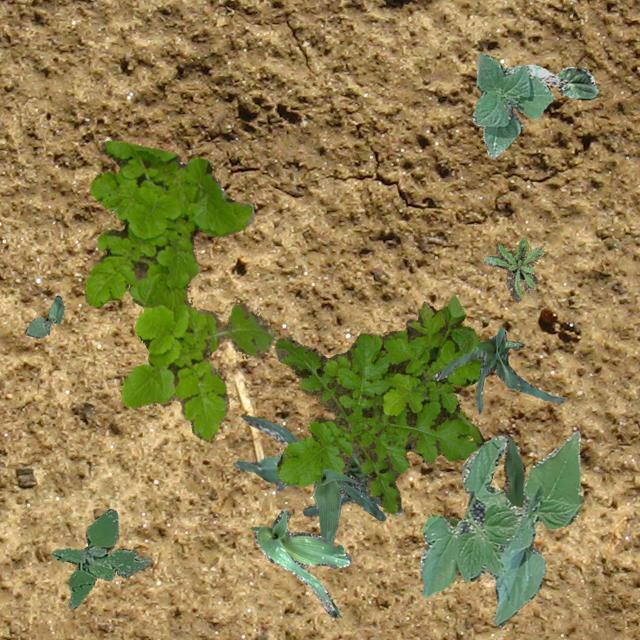crop: (420, 430, 580, 626), (232, 414, 402, 516), (432, 327, 564, 412), (250, 508, 350, 616), (471, 52, 554, 158), (276, 466, 384, 542), (442, 432, 524, 526), (504, 63, 598, 99), (24, 294, 62, 336)
weed: (84, 140, 274, 440), (274, 294, 483, 512), (52, 508, 150, 608), (482, 236, 542, 302)
